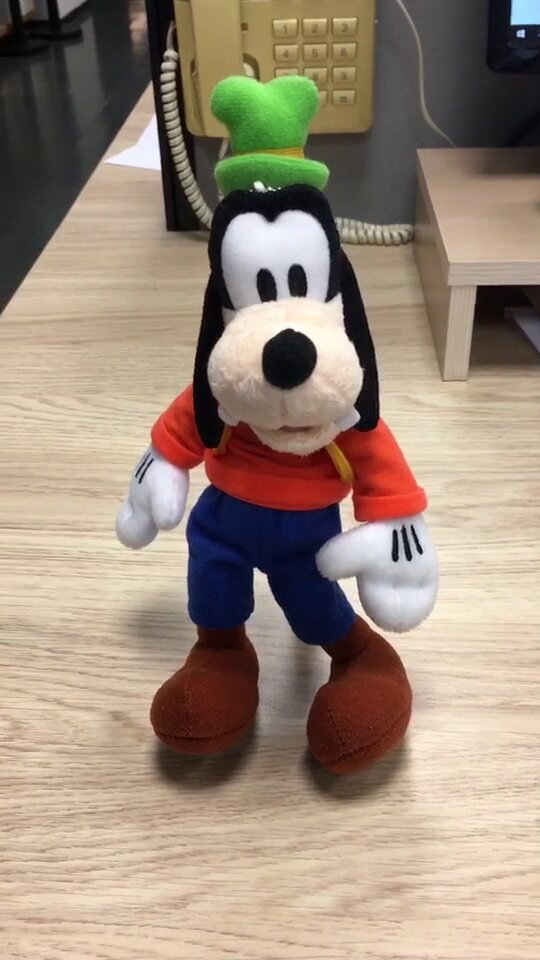goofy: (110, 68, 446, 773)
